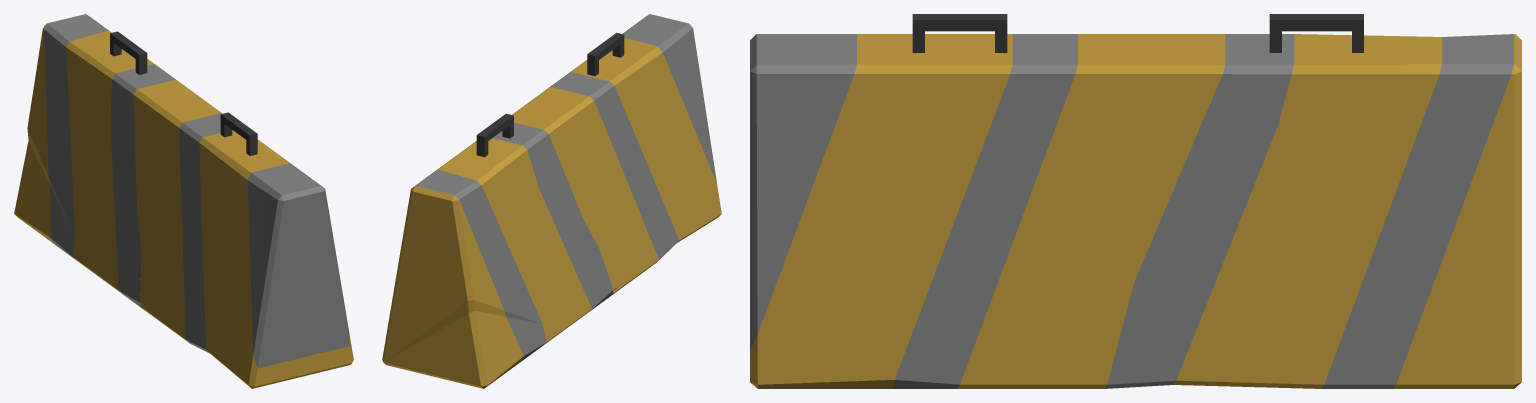
The model's file is model_road_barrier02.fbx.
The picture shows the model from 3 angles, left to right: view 1: azimuth 30°, elevation 25°; view 2: azimuth 150°, elevation 25°; view 3: azimuth 270°, elevation 25°; orthographic projection. The views are drawn at different scales.
Visible parts, largest first — view 1: model_road_barrer; view 2: model_road_barrer; view 3: model_road_barrer.
Boxes of the visible parts, x1,y1,x2,y2 form: model_road_barrer: (14, 14, 353, 388); model_road_barrer: (382, 14, 721, 388); model_road_barrer: (750, 14, 1521, 388).
Size of the model in its own units: 59.09 by 111 by 232.
1 material, 1 textured.
